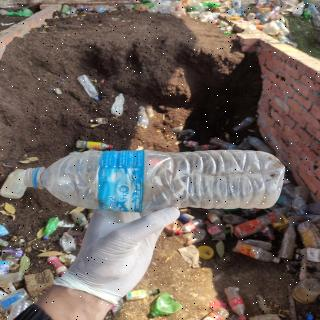Plastic-bottle: (19, 147, 292, 215), (77, 74, 104, 105), (111, 92, 128, 119)
